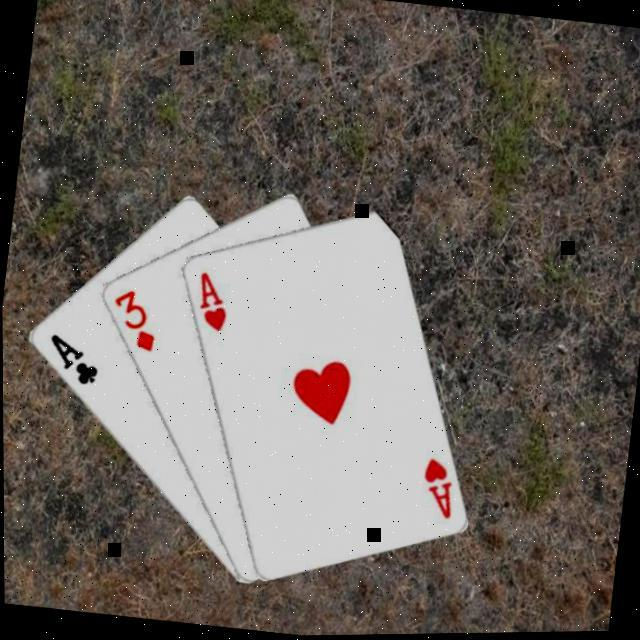3D: (102, 282, 161, 356)
AC: (40, 327, 102, 388)
AH: (412, 452, 458, 523), (188, 266, 234, 335)
